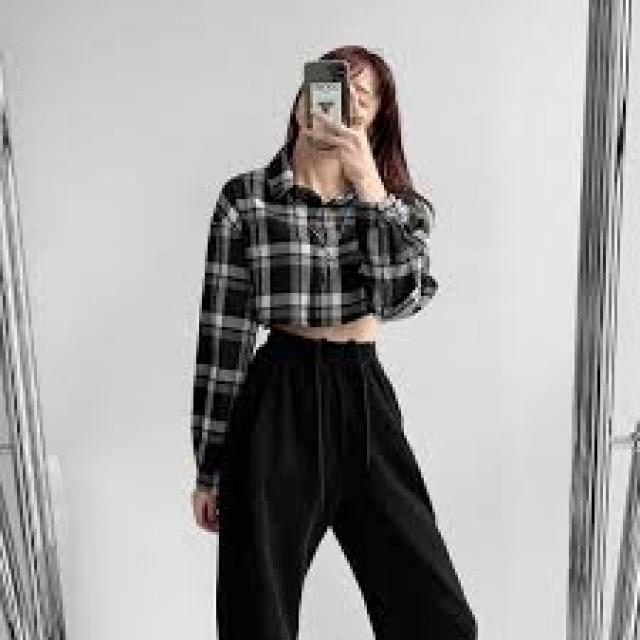plaid: (194, 159, 433, 347)
